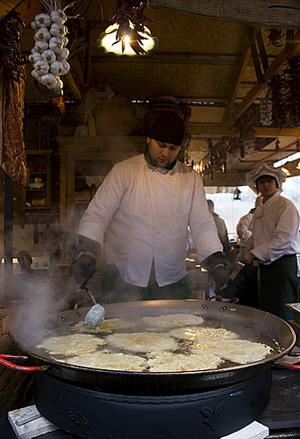person: (71, 106, 227, 308)
